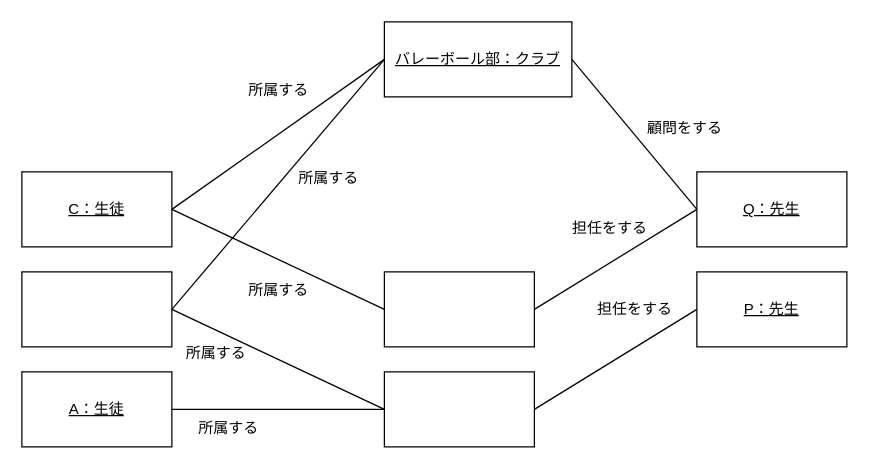
The diagram is 869 pixels wide and 469 high, and some of its shapes have lost their labels. The centre of each missing label's shape, as x and y in pixels:
1年1組：クラス: [458,409]
1年2組：クラス: [458,309]
B：生徒: [96,309]
